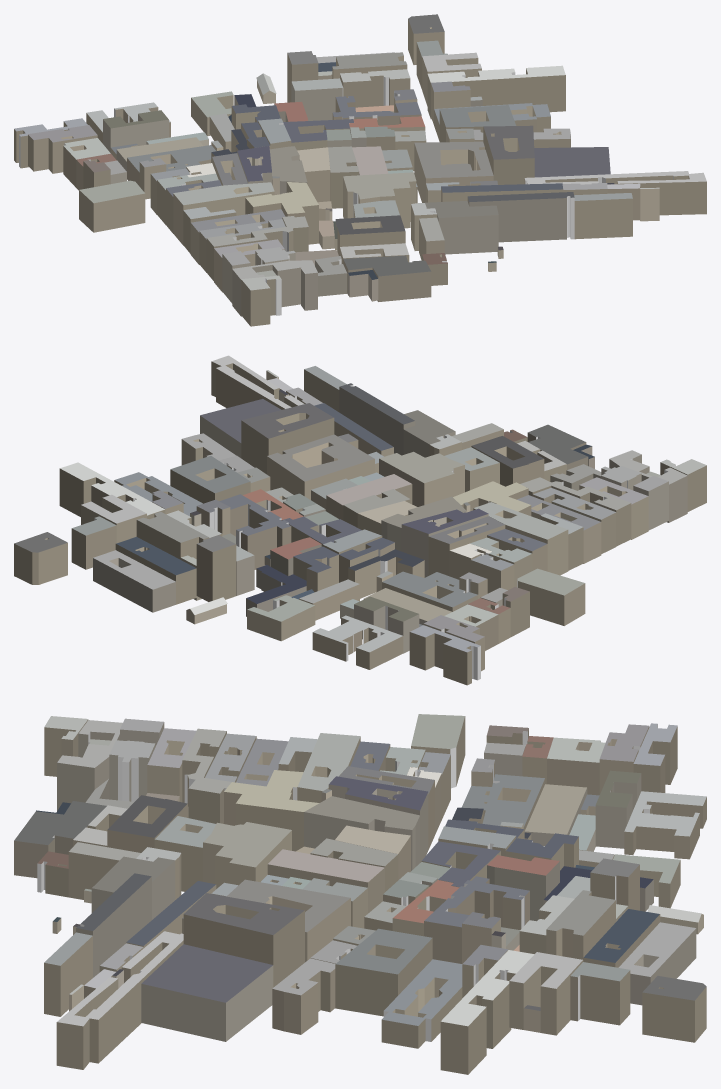
The picture shows the model from 3 angles, top to bottom: view 1: azimuth 30°, elevation 25°; view 2: azimuth 150°, elevation 25°; view 3: azimuth 270°, elevation 25°; orthographic projection. The views are drawn at different scales.
Parts seen in each view (by area): view 1: tuile; view 2: tuile; view 3: tuile.
Boxes of the visible parts, x1=… form: tuile: x1=14, y1=14, x2=706, y2=326; tuile: x1=14, y1=355, x2=706, y2=685; tuile: x1=14, y1=714, x2=706, y2=1074.
Size of the model in its own units: 300 by 33.26 by 275.
